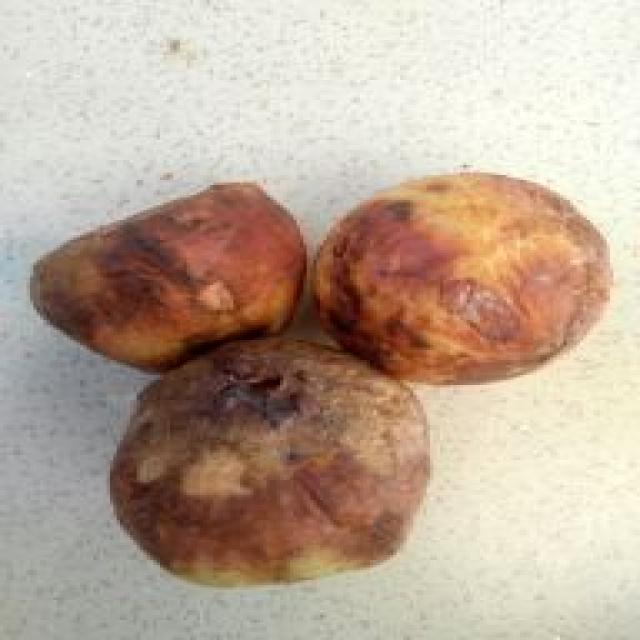Bad_Guava: (110, 339, 430, 584), (312, 172, 612, 383), (33, 184, 305, 371)
